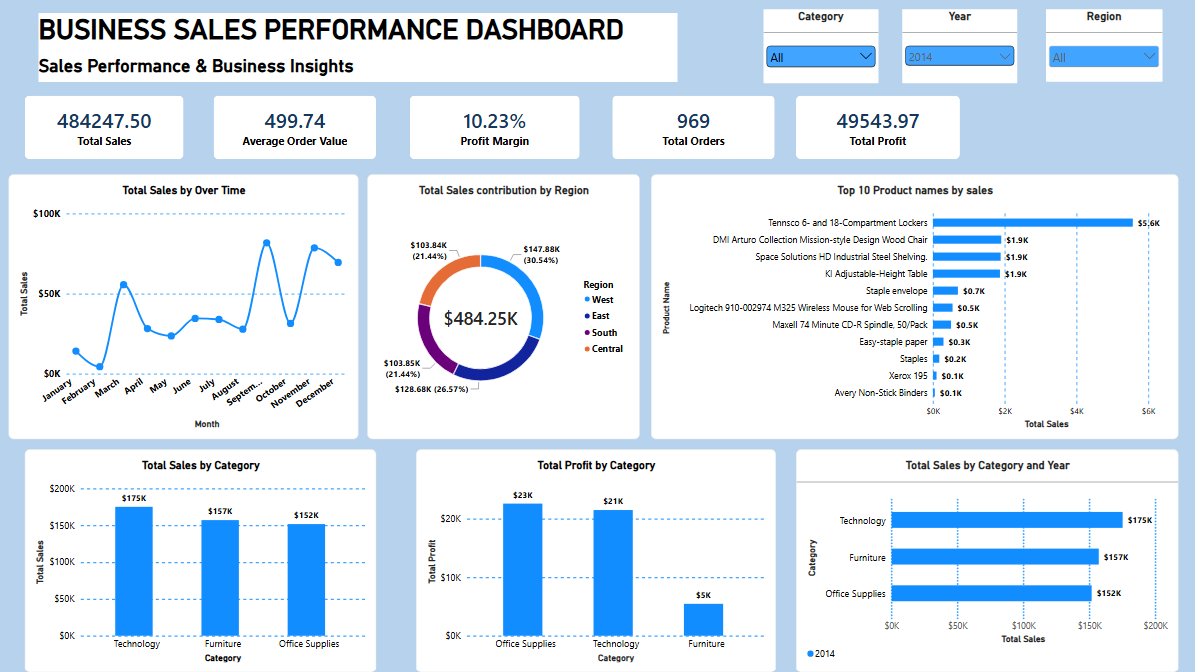

This screenshot's page, from the dashboard's own definition file:
{"tool":"powerbi","page":{"name":"Page 1","canvas":[1920,1080],"ordinal":0},"visuals":[{"type":"textbox","title":"BUSINESS SALES PERFORMANCE DASHBOARD","box":[68,24,1022,110],"z":0},{"type":"cardVisual","fields":{"Data":["DateTable.Total Revenue"]},"box":[46,156,254,102],"z":1000},{"type":"cardVisual","fields":{"Data":["DateTable.Average Order Value"]},"box":[348,156,260,102],"z":2000},{"type":"cardVisual","fields":{"Data":["DateTable.Profit Margin"]},"box":[662,156,272,102],"z":3000},{"type":"cardVisual","fields":{"Data":["DateTable.Total Orders"]},"box":[986,156,260,102],"z":4000},{"type":"cardVisual","fields":{"Data":["DateTable.Total Profit"]},"box":[1280,156,262,102],"z":5000},{"type":"columnChart","title":"Total Sales by Category","fields":{"Category":["Superstores_cleaned.Category"],"Y":["DateTable.Total Sales"]},"box":[46,722,562,358],"z":6000},{"type":"donutChart","title":"Total Sales contribution by Region","fields":{"Category":["Superstores_cleaned.Region"],"Y":["DateTable.Total Sales"]},"box":[594,282,436,424],"z":7000},{"type":"slicer","title":"Year","fields":{"Values":["DateTable.Year"]},"box":[1450,18,184,118],"z":8000},{"type":"slicer","title":"Category","fields":{"Values":["Superstores_cleaned.Category"]},"box":[1228,18,184,118],"z":9000},{"type":"slicer","title":"Region","fields":{"Values":["Superstores_cleaned.Region"]},"box":[1680,18,186,116],"z":10000},{"type":"lineChart","title":"Total Sales by Over Time","fields":{"Category":["DateTable.Month"],"Y":["DateTable.Total Sales"]},"box":[20,282,560,424],"z":11000},{"type":"clusteredBarChart","title":"Top 10 Product names by sales","fields":{"Category":["Superstores_cleaned.Product Name"],"Y":["DateTable.Total Sales"]},"box":[1048,282,844,424],"z":12000},{"type":"columnChart","title":"Total Profit by Category","fields":{"Category":["Superstores_cleaned.Category"],"Y":["DateTable.Total Profit"]},"box":[672,722,576,358],"z":12001},{"type":"barChart","fields":{"Category":["Superstores_cleaned.Category"],"Series":["DateTable.Year"],"Y":["DateTable.Total Sales"]},"box":[1280,722,612,358],"z":12002}]}

Visuals, with their boxes in screenshot pixels (x1, y1, x2, y2), scaled from the page's 1920x1080 canvas onto the 1195x672 screenshot:
"BUSINESS SALES PERFORMANCE DASHBOARD" textbox: 42,15,678,83
cardVisual - DateTable.Total Revenue: 29,97,187,161
cardVisual - DateTable.Average Order Value: 217,97,378,161
cardVisual - DateTable.Profit Margin: 412,97,581,161
cardVisual - DateTable.Total Orders: 614,97,776,161
cardVisual - DateTable.Total Profit: 797,97,960,161
"Total Sales by Category" columnChart: 29,449,378,671
"Total Sales contribution by Region" donutChart: 370,175,641,439
"Year" slicer: 902,11,1017,85
"Category" slicer: 764,11,879,85
"Region" slicer: 1046,11,1161,83
"Total Sales by Over Time" lineChart: 12,175,361,439
"Top 10 Product names by sales" clusteredBarChart: 652,175,1178,439
"Total Profit by Category" columnChart: 418,449,777,671
barChart - Superstores_cleaned.Category x DateTable.Year: 797,449,1178,671
